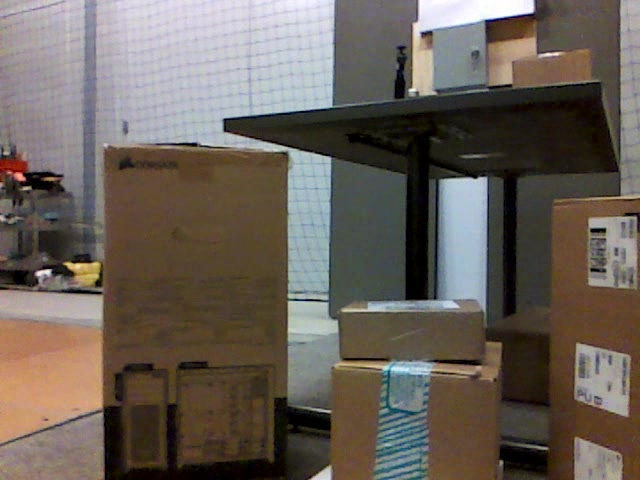box: (103, 146, 290, 480), (551, 197, 640, 480), (333, 343, 501, 480), (339, 302, 485, 360), (487, 304, 552, 403), (514, 52, 587, 88)
